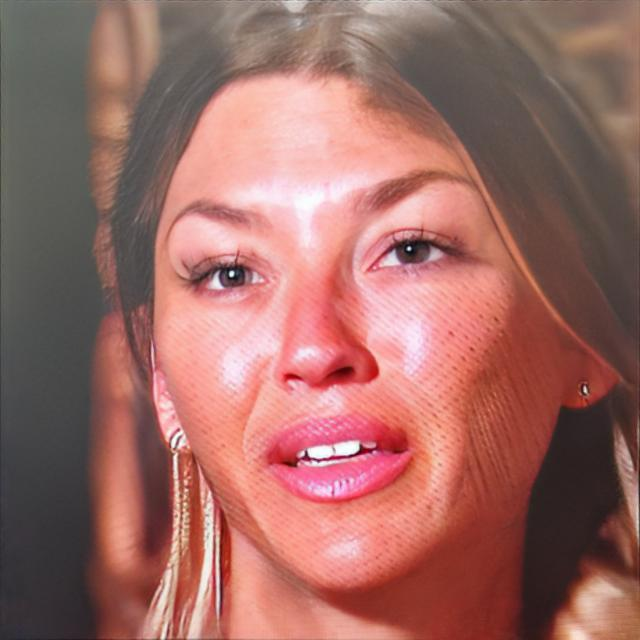disgust: (151, 64, 560, 596)
